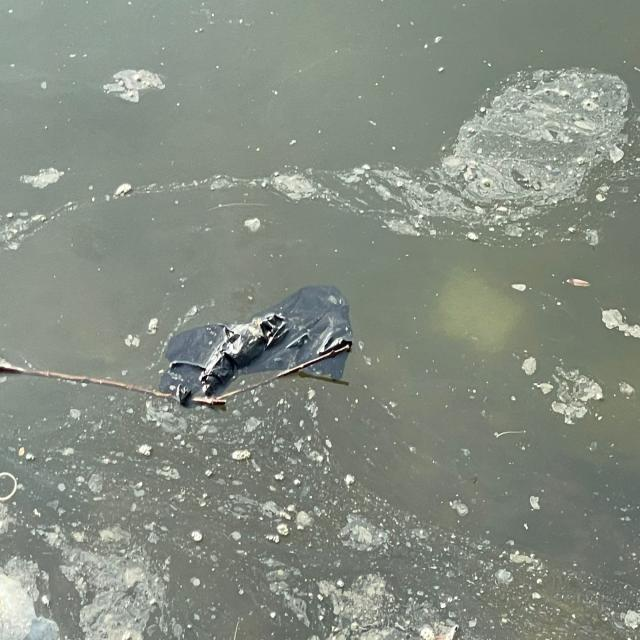Kantong Plastik: (157, 284, 361, 414)
